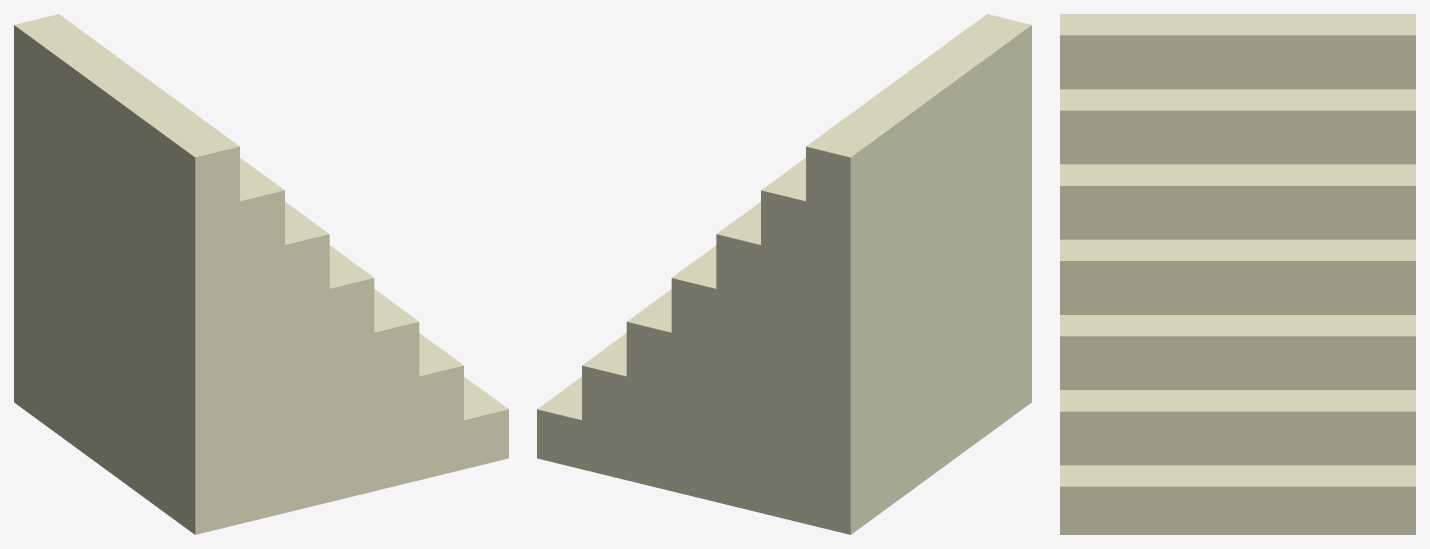
File: merdiven (1).fbx
3 views of the same model, side by side, from view 1: azimuth 30°, elevation 25°; view 2: azimuth 150°, elevation 25°; view 3: azimuth 270°, elevation 25° (orthographic).
Visible parts, largest first — view 1: merdiven; view 2: merdiven; view 3: merdiven.
Boxes of the visible parts, x1,y1,x2,y2 form: merdiven: (14,14,508,534); merdiven: (537,14,1031,534); merdiven: (1060,14,1415,534).
Bounding box in the file's own units: 2 × 2.3 × 2.
